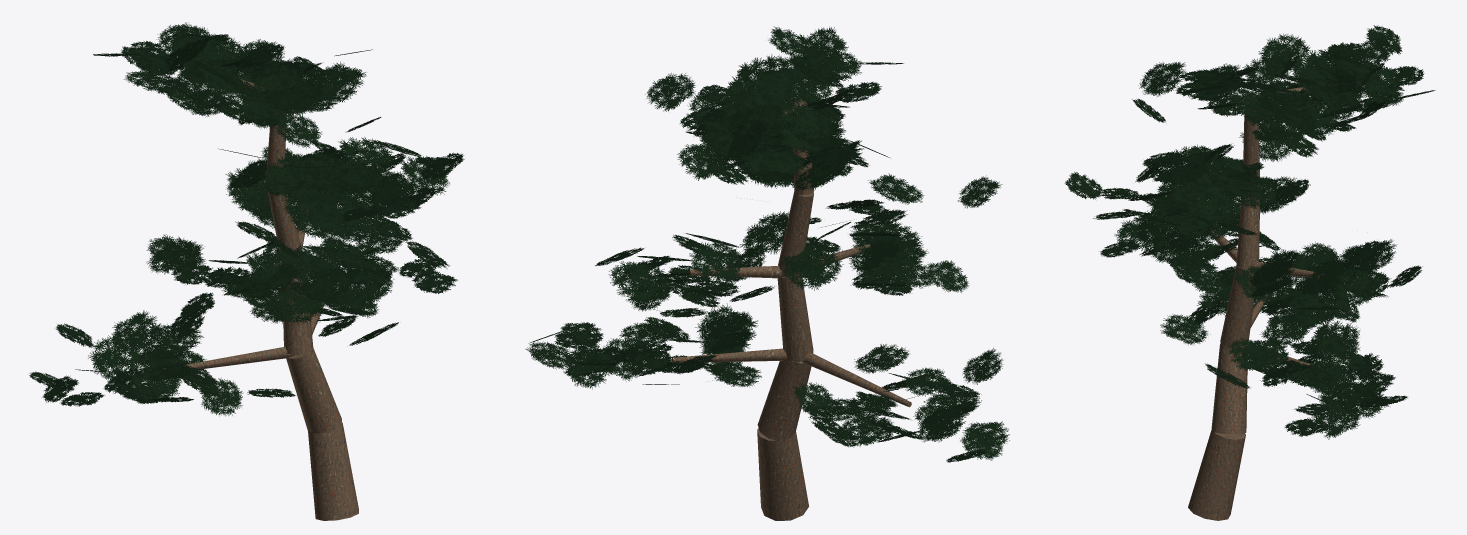
Rendered from Pine_0.fbx.
The picture shows the model from 3 angles, left to right: view 1: azimuth 30°, elevation 25°; view 2: azimuth 150°, elevation 25°; view 3: azimuth 270°, elevation 25°; orthographic projection. The views are drawn at different scales.
Visible parts, largest first — view 1: Pine_0; view 2: Pine_0; view 3: Pine_0.
Part boxes in pixels (box(x1,y1,x2,y2)): Pine_0: box(29, 22, 464, 520); Pine_0: box(525, 26, 1009, 520); Pine_0: box(1064, 25, 1435, 520).
Size of the model in its own units: 8.87 by 8.95 by 7.28.
